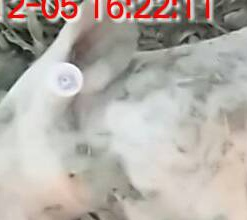text: (39, 55, 93, 103)
